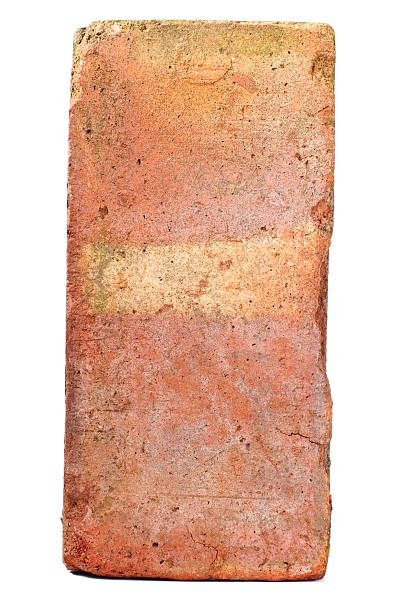brick: (69, 19, 331, 581)
